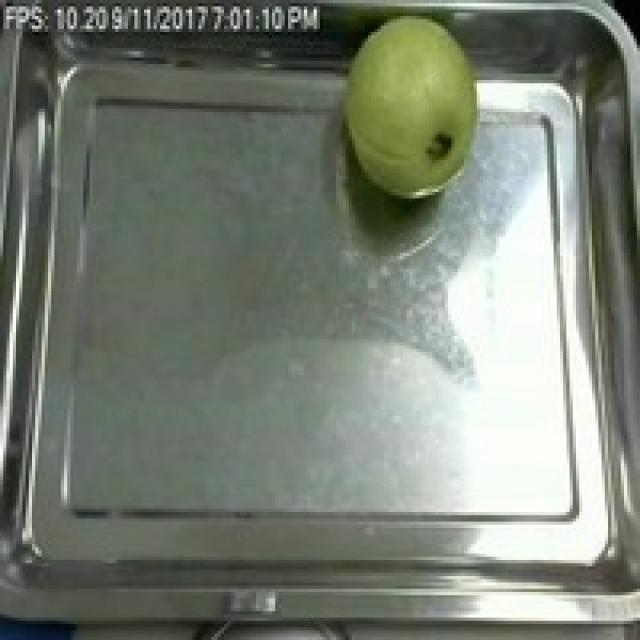Fruit: (330, 7, 499, 215)
